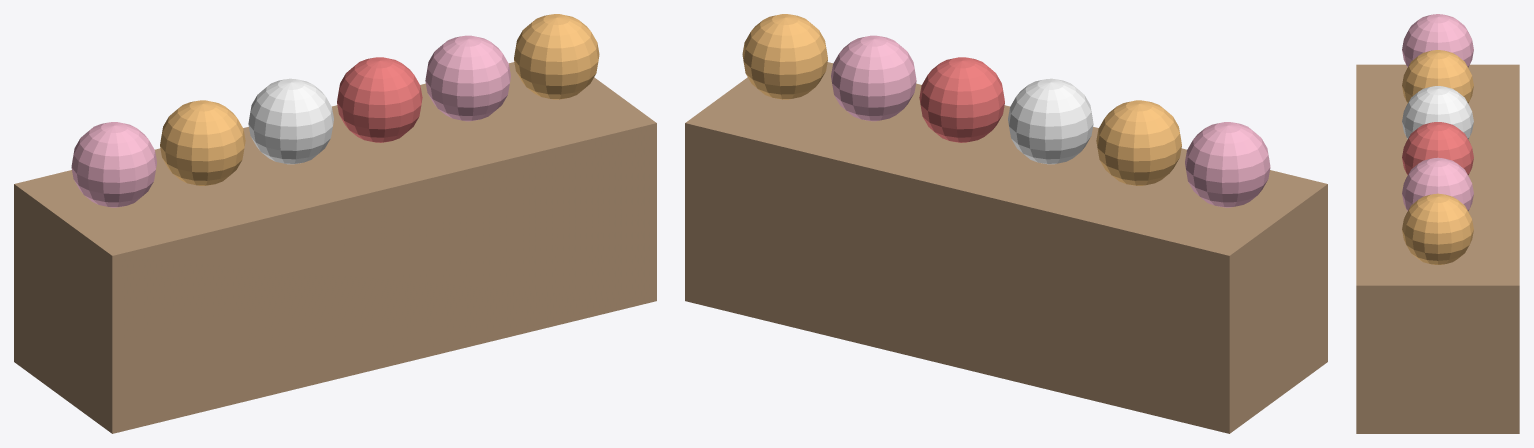
File: pr-planter.glb
3 views of the same model, side by side, from view 1: azimuth 30°, elevation 25°; view 2: azimuth 150°, elevation 25°; view 3: azimuth 270°, elevation 25° (orthographic). The views are drawn at different scales.
Parts seen in each view (by area): view 1: box; view 2: box; view 3: box.
Boxes of the visible parts, x1=… form: box: x1=14, y1=14, x2=656, y2=433; box: x1=685, y1=14, x2=1327, y2=433; box: x1=1356, y1=14, x2=1519, y2=433.
Bounding box in the file's own units: 1.6 × 0.73 × 0.5.
